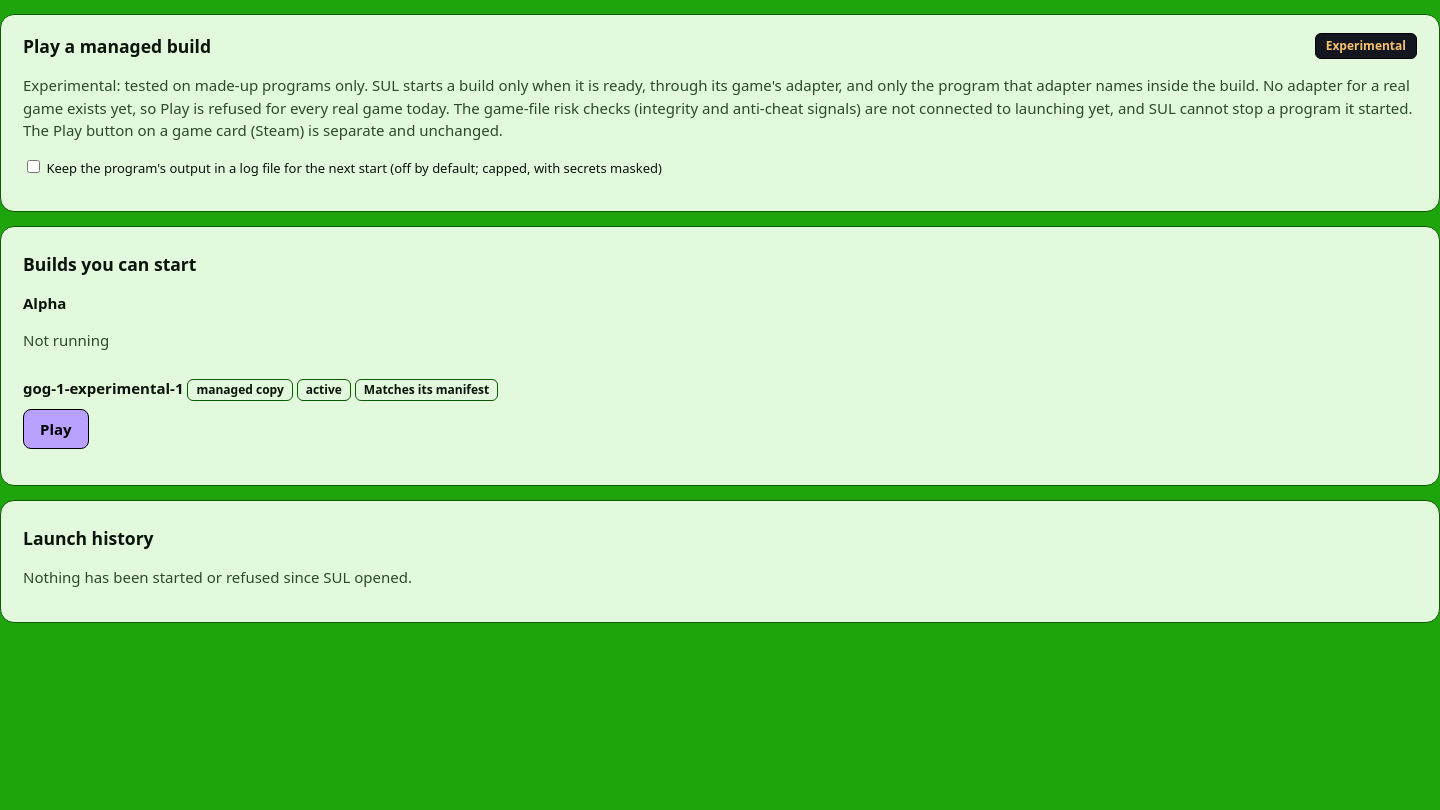
Test: the play panel, clicked through › an unexpected failure is shown as text and Play can be pressed again
The image size is (1440, 810).
Later steps or results of the test are not shown.
Click the button "Play".
click(56, 429)  # box [23, 409, 89, 449]
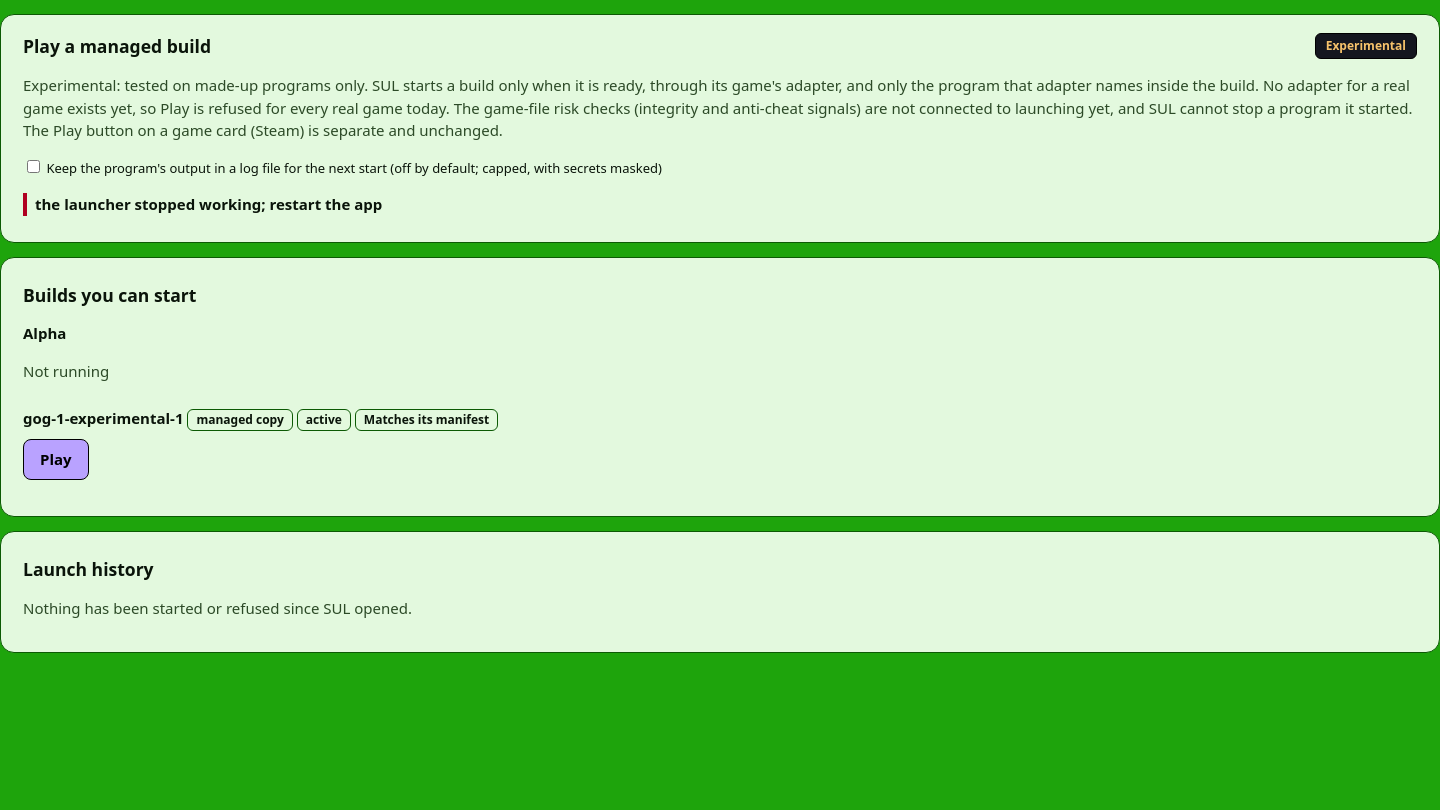
Now the message "the launcher stopped working; restart the app" is shown, box [23, 193, 1417, 216]
